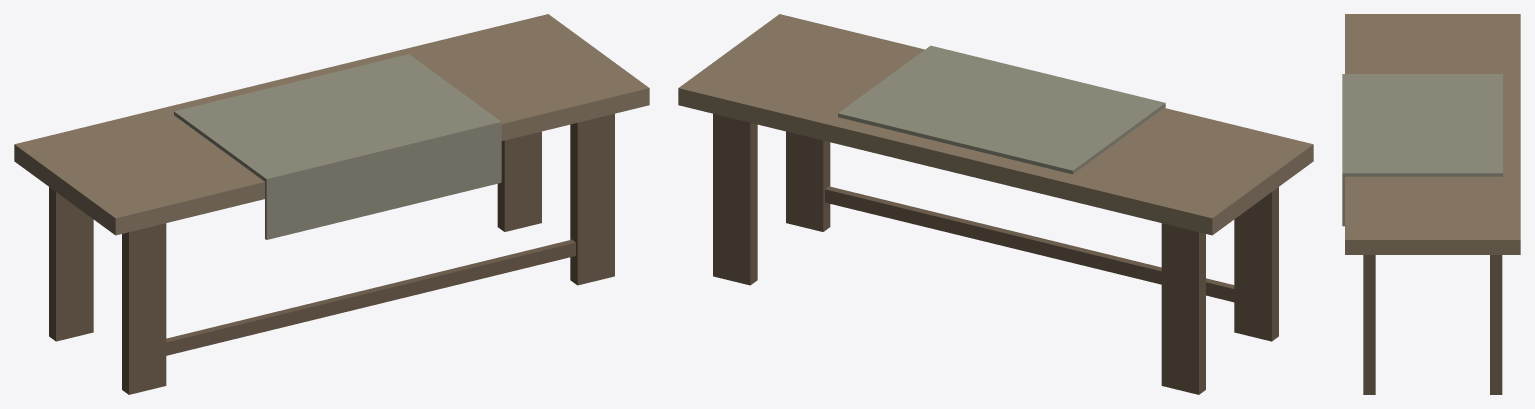
Rendered from altar_table.glb.
3 renders of one model, left to right at view 1: azimuth 30°, elevation 25°; view 2: azimuth 150°, elevation 25°; view 3: azimuth 270°, elevation 25°, orthographic. The views are drawn at different scales.
Visible parts, largest first — view 1: altar_table; view 2: altar_table; view 3: altar_table.
Part boxes in pixels (x1=…): altar_table: x1=14, y1=14, x2=649, y2=394; altar_table: x1=678, y1=14, x2=1313, y2=394; altar_table: x1=1342, y1=14, x2=1520, y2=394.
Size of the model in its own units: 2.88 by 1 by 0.96.
